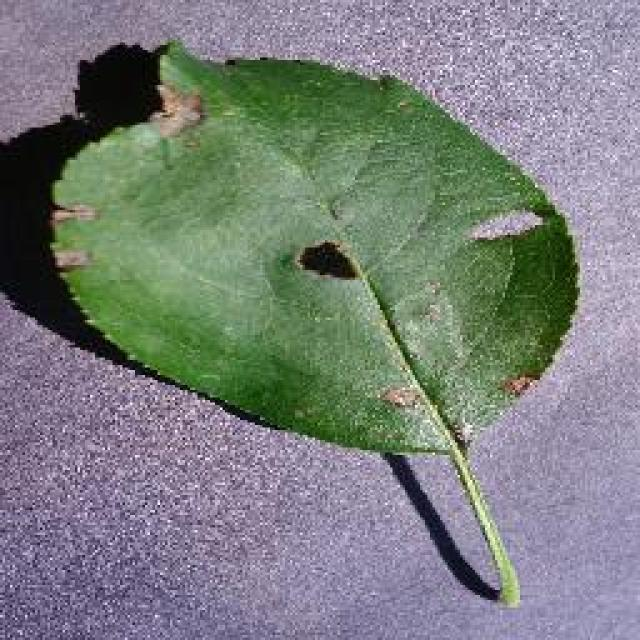apple black rot: (0, 35, 582, 605)
